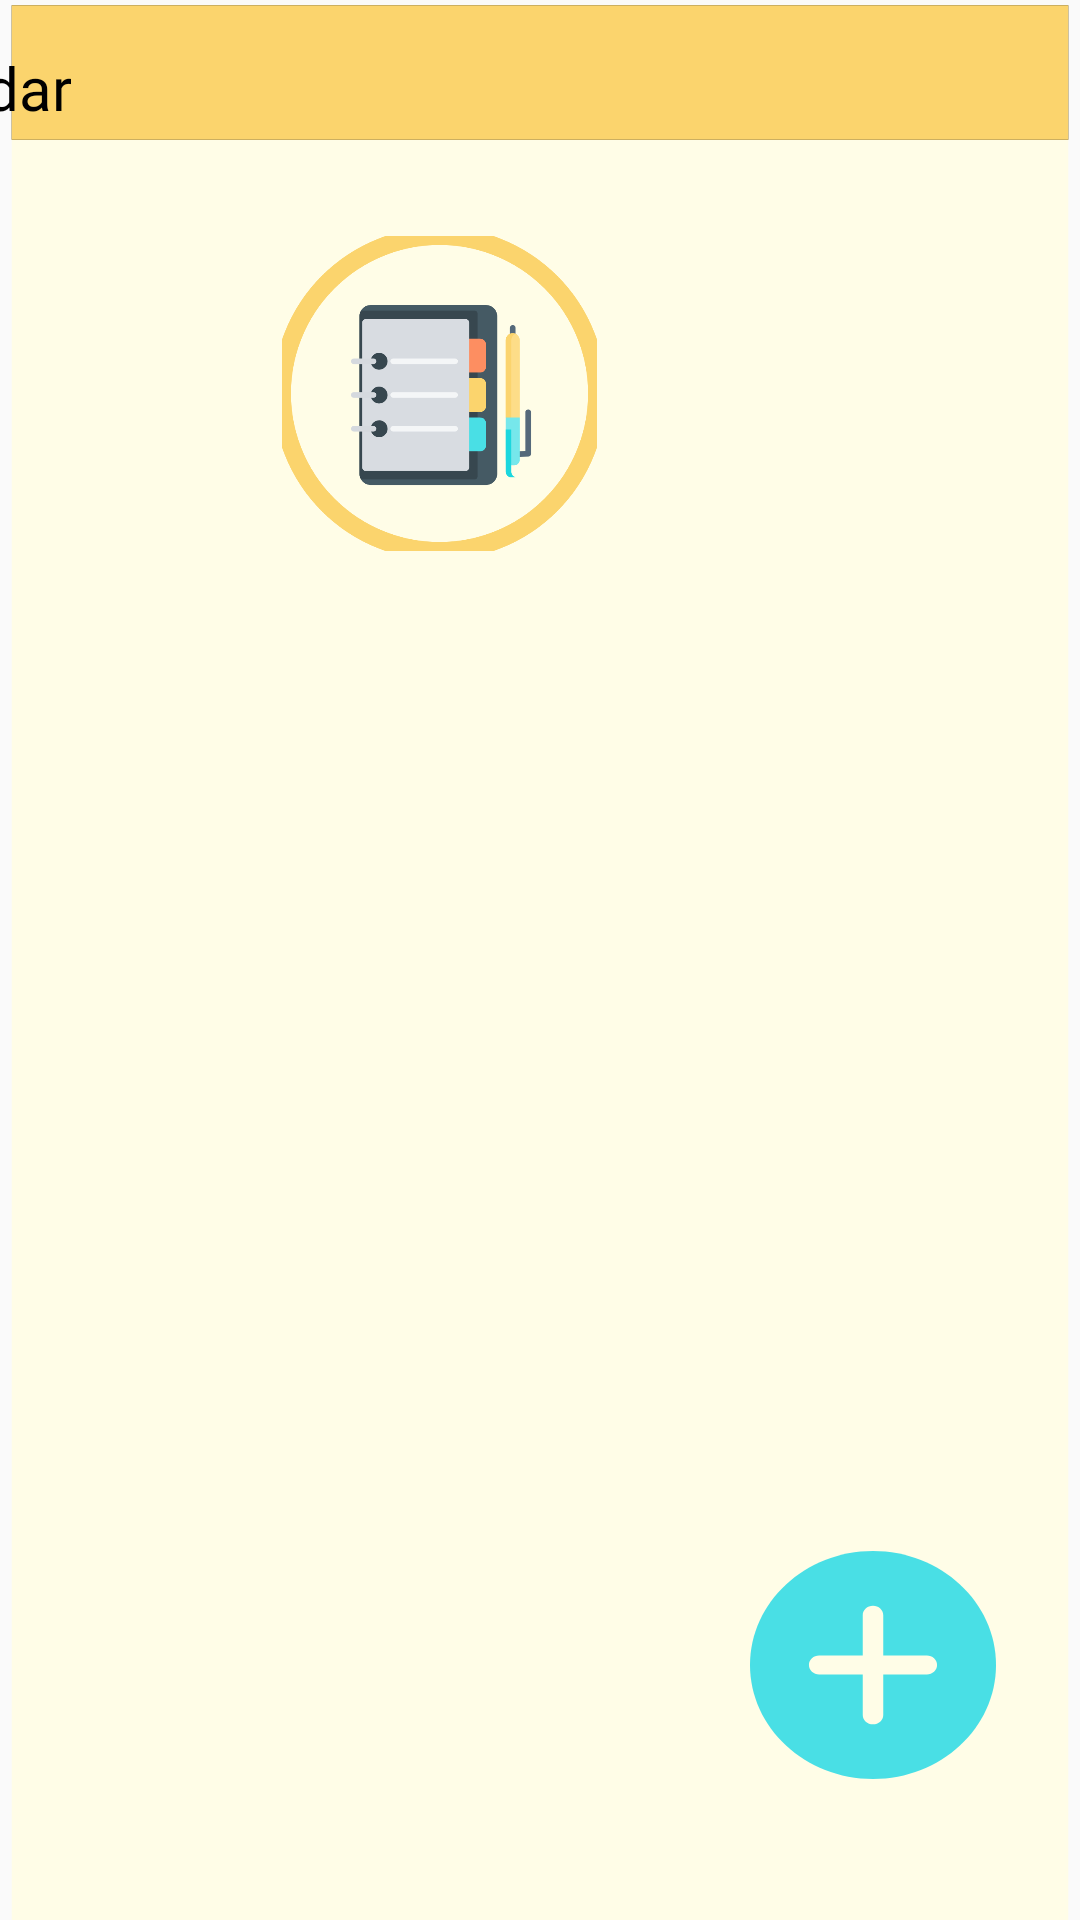

Named icons in this screenshot (1080 × 1920) and their centers, point (x, y):
btnadd: point (873, 1665)
btnagendar: point (439, 393)
